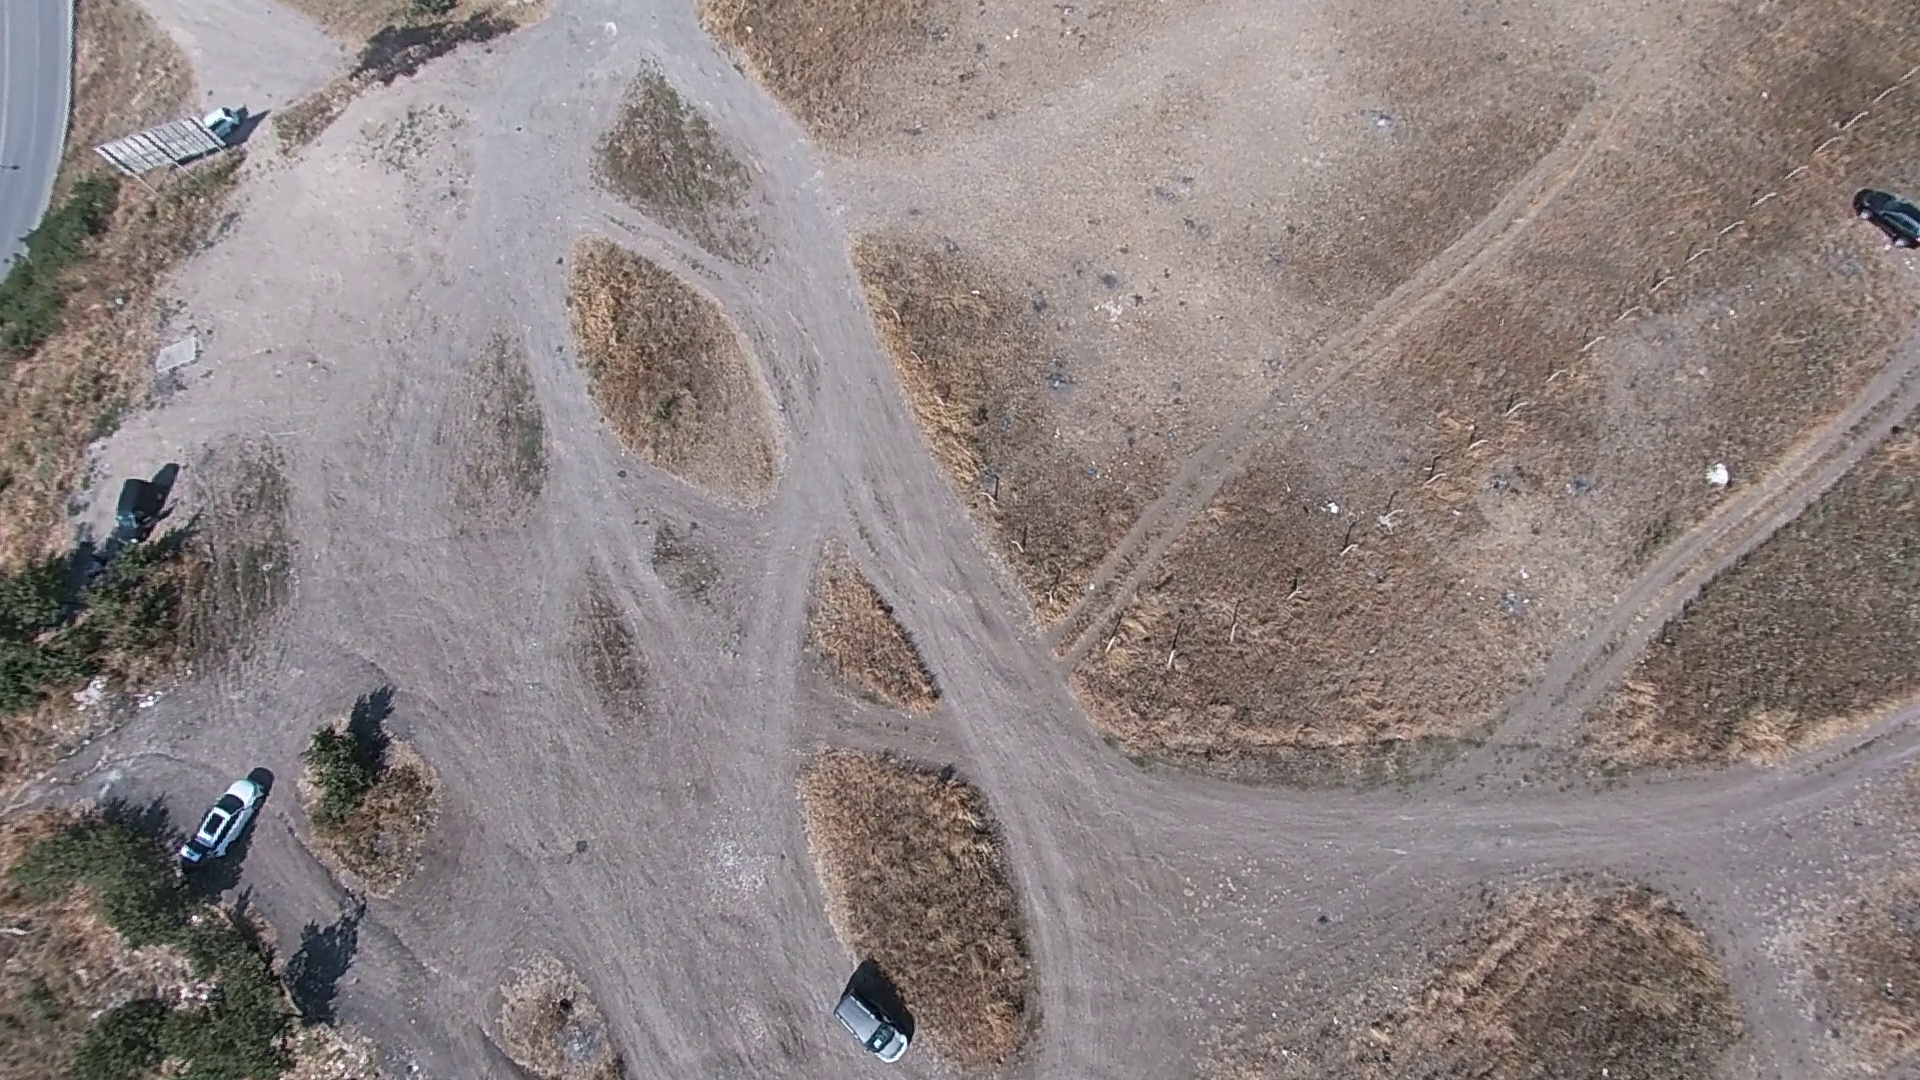arac: (175, 767, 269, 865), (833, 967, 907, 1063), (1857, 177, 1920, 258), (108, 475, 169, 550)
